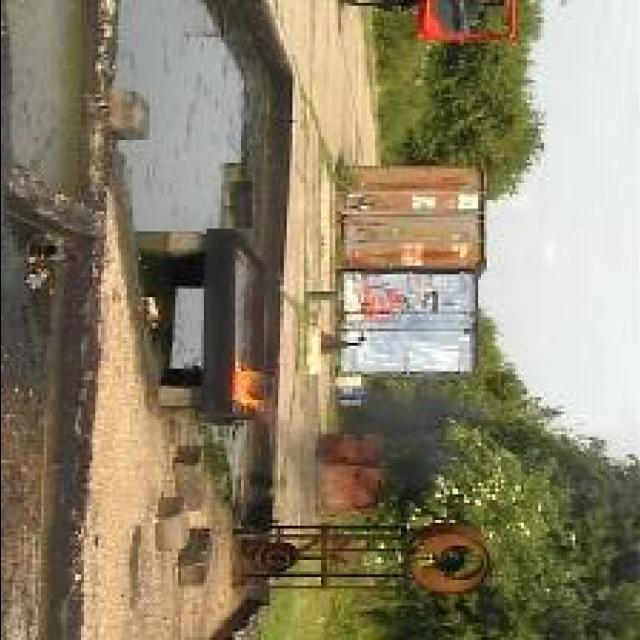Fire: (234, 358, 268, 422)
